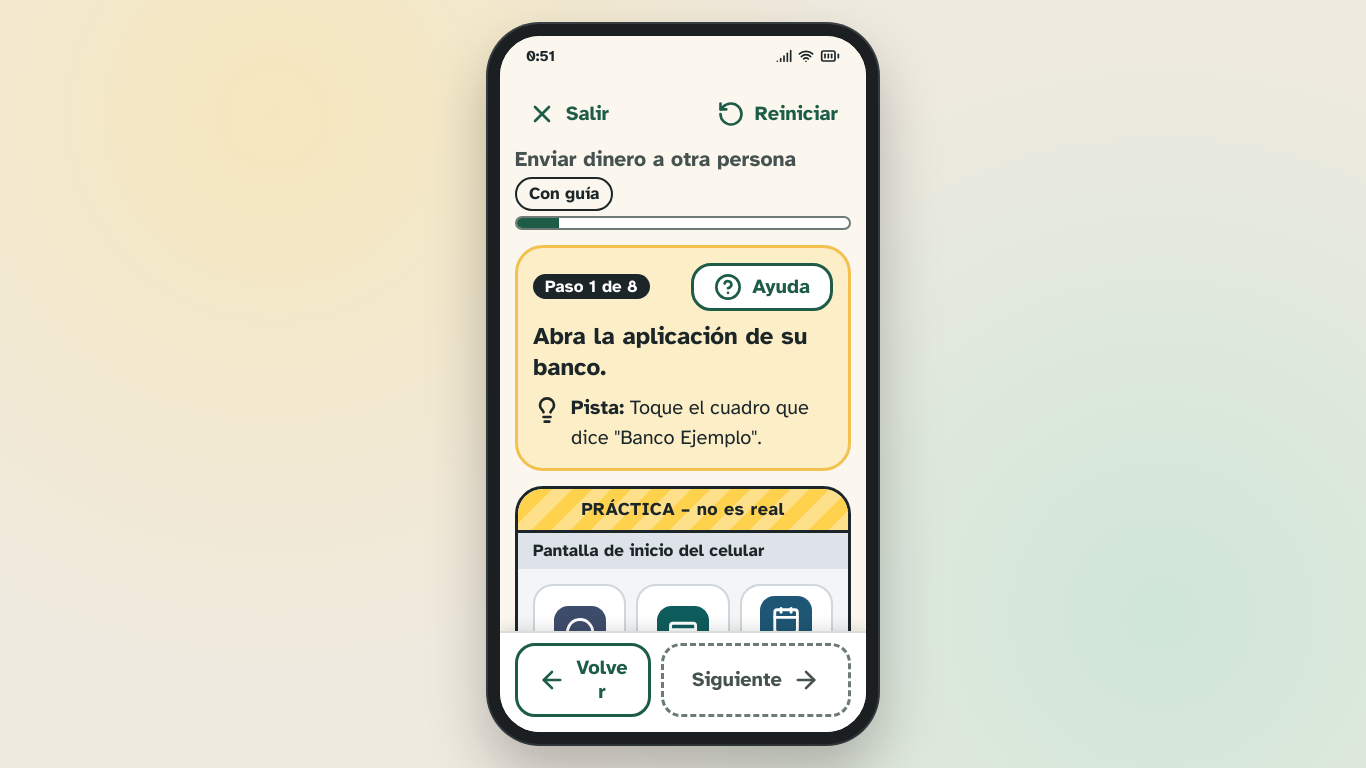
Scenario: pantalla 4: simulador de transferencia › "Siguiente" no avanza sin hacer el paso, y explica por qué
Click the button "Siguiente" at (756, 680), box [661, 643, 851, 717]
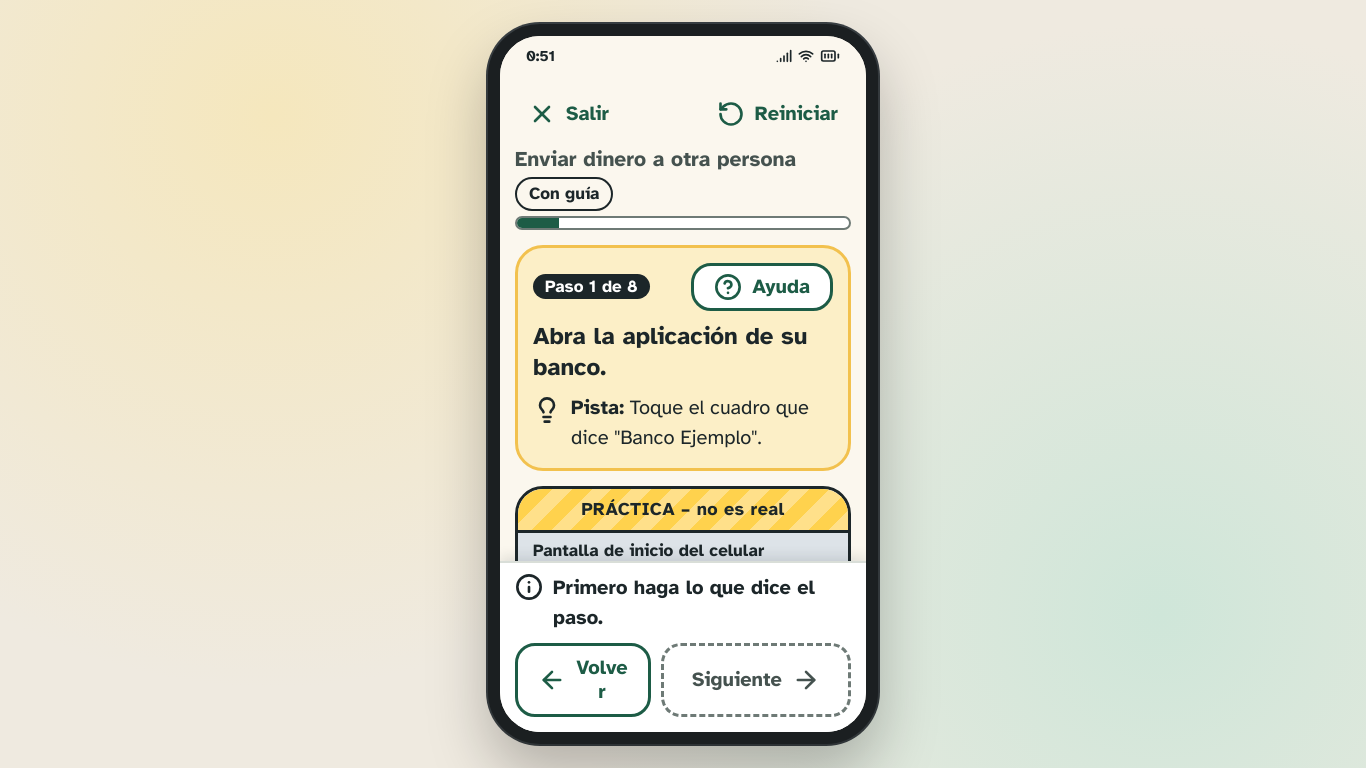
Expected: the text "Paso 1 de 8" is shown, [533, 274, 650, 299]
Result: the message reads "Primero haga lo que dice el paso." at [553, 575, 815, 630]
